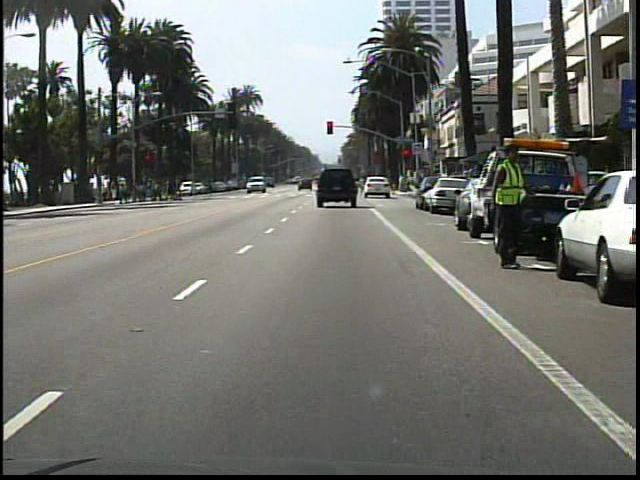person: (485, 139, 531, 273), (201, 172, 221, 201)
